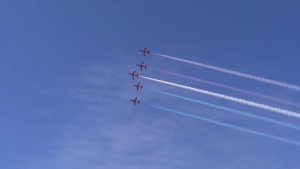flight: (138, 47, 151, 57), (131, 81, 144, 91), (136, 61, 148, 71), (129, 96, 141, 106), (128, 70, 139, 80)
